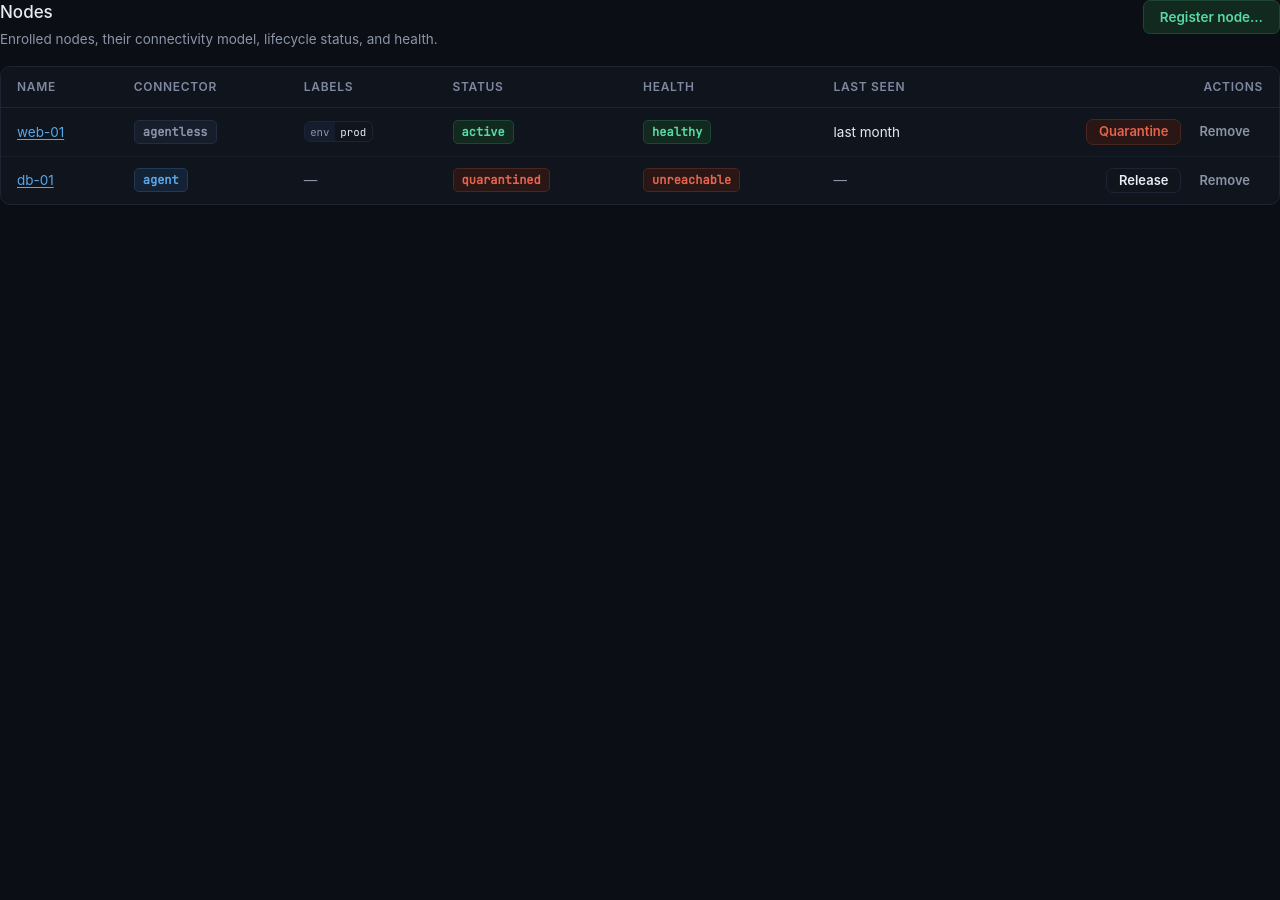
Test: NodeList › registers an agentless node and requires a host-identity anchor
Check: the button "web-01" is shown, box [17, 122, 64, 142]
Click the button "Register node…".
click(1211, 17)  # box [1143, 0, 1279, 34]
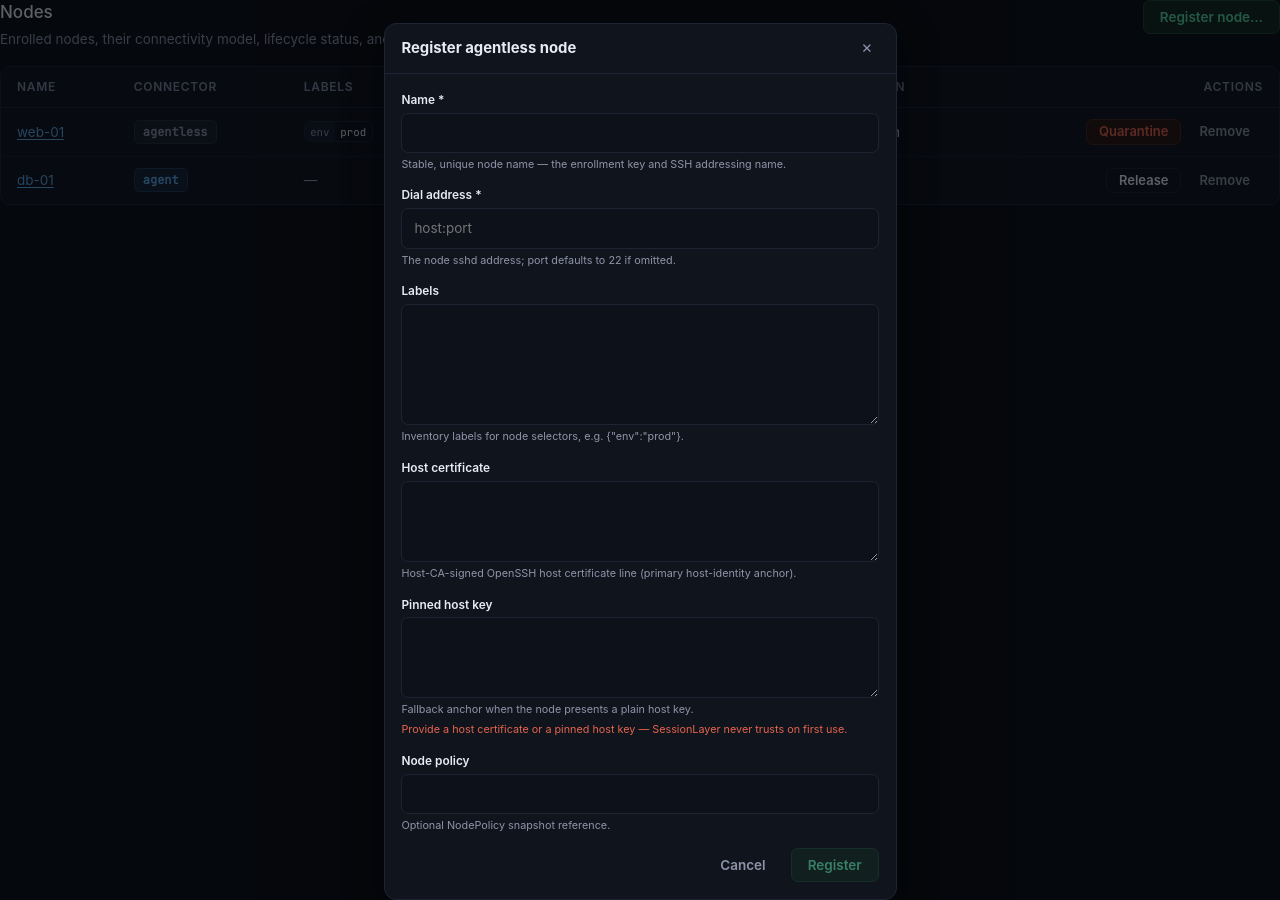
Check: the button "Register" is disabled, box [791, 848, 879, 882]
Type "app-01" into the field labelled "Name *".
click(640, 133); type("app-01")  # box [401, 112, 879, 153]
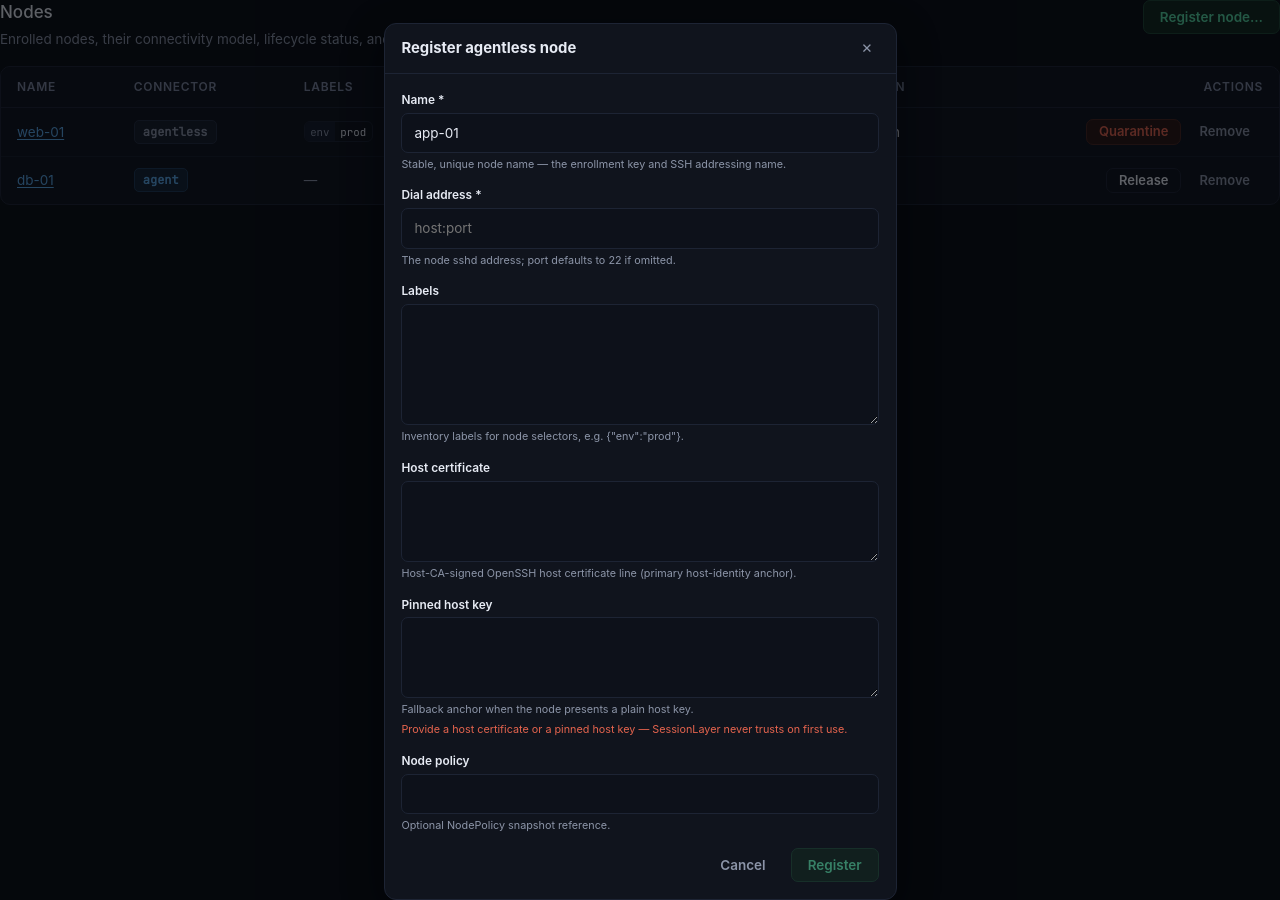
Type "10.0.3.4:22" into the field labelled "Dial address *".
click(640, 228); type("10.0.3.4:22")  # box [401, 208, 879, 249]
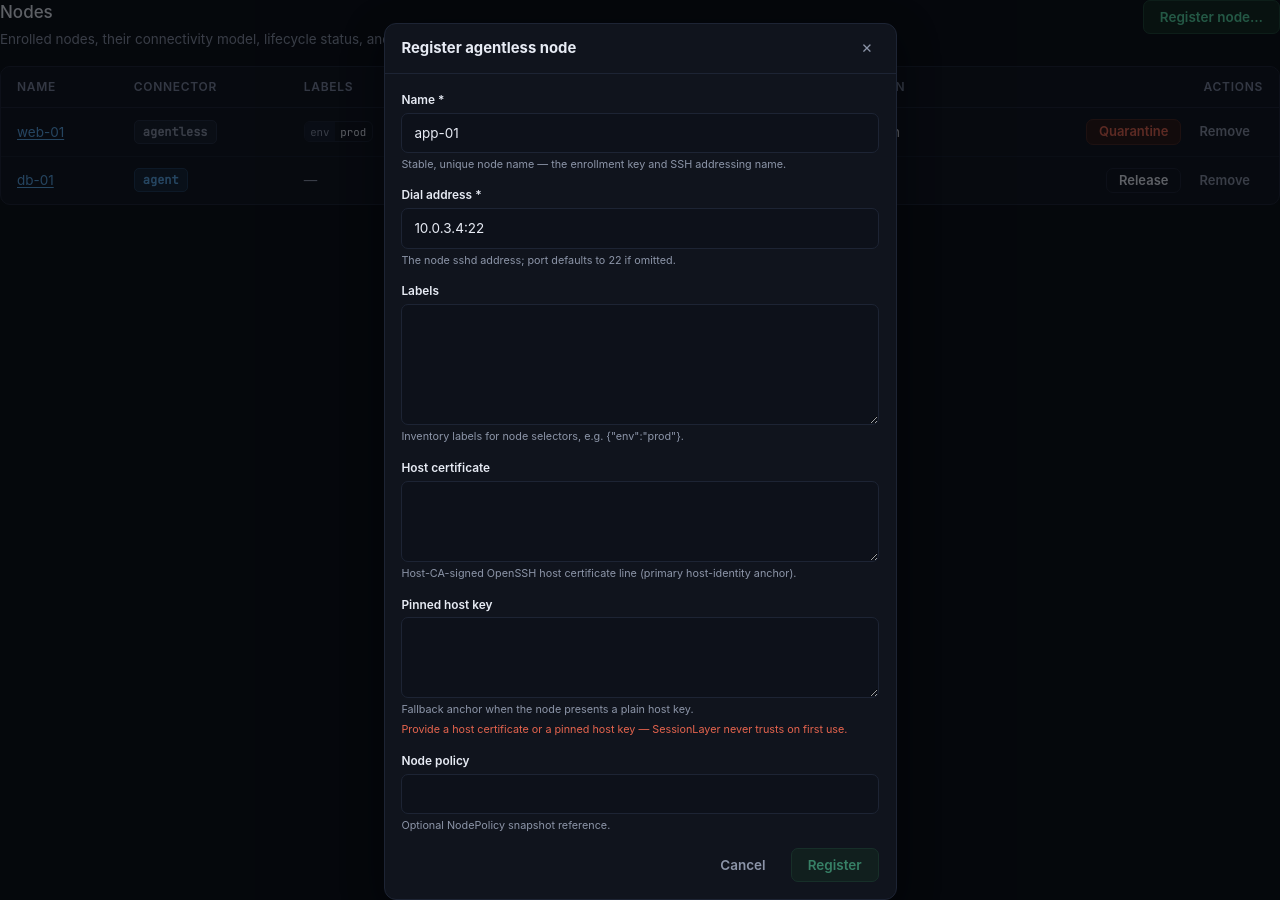
Type "ssh-ed25519-cert-v01@openssh.com AAAA..." into the text box labelled "Host certificate".
click(640, 521); type("ssh-ed25519-cert-v01@openssh.com AAAA...")  # box [401, 481, 879, 562]
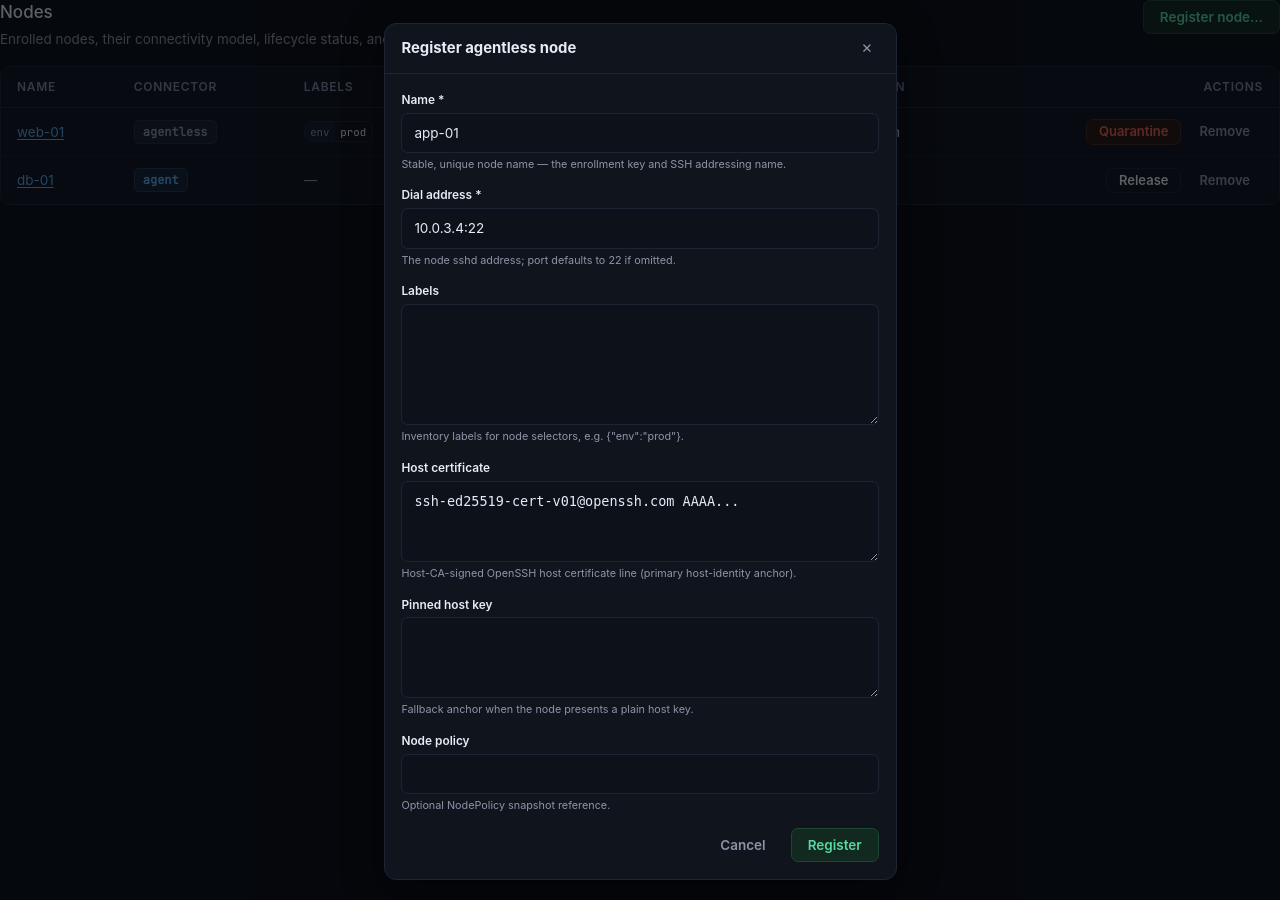
Click the button "Register".
click(835, 845)  # box [791, 828, 879, 862]
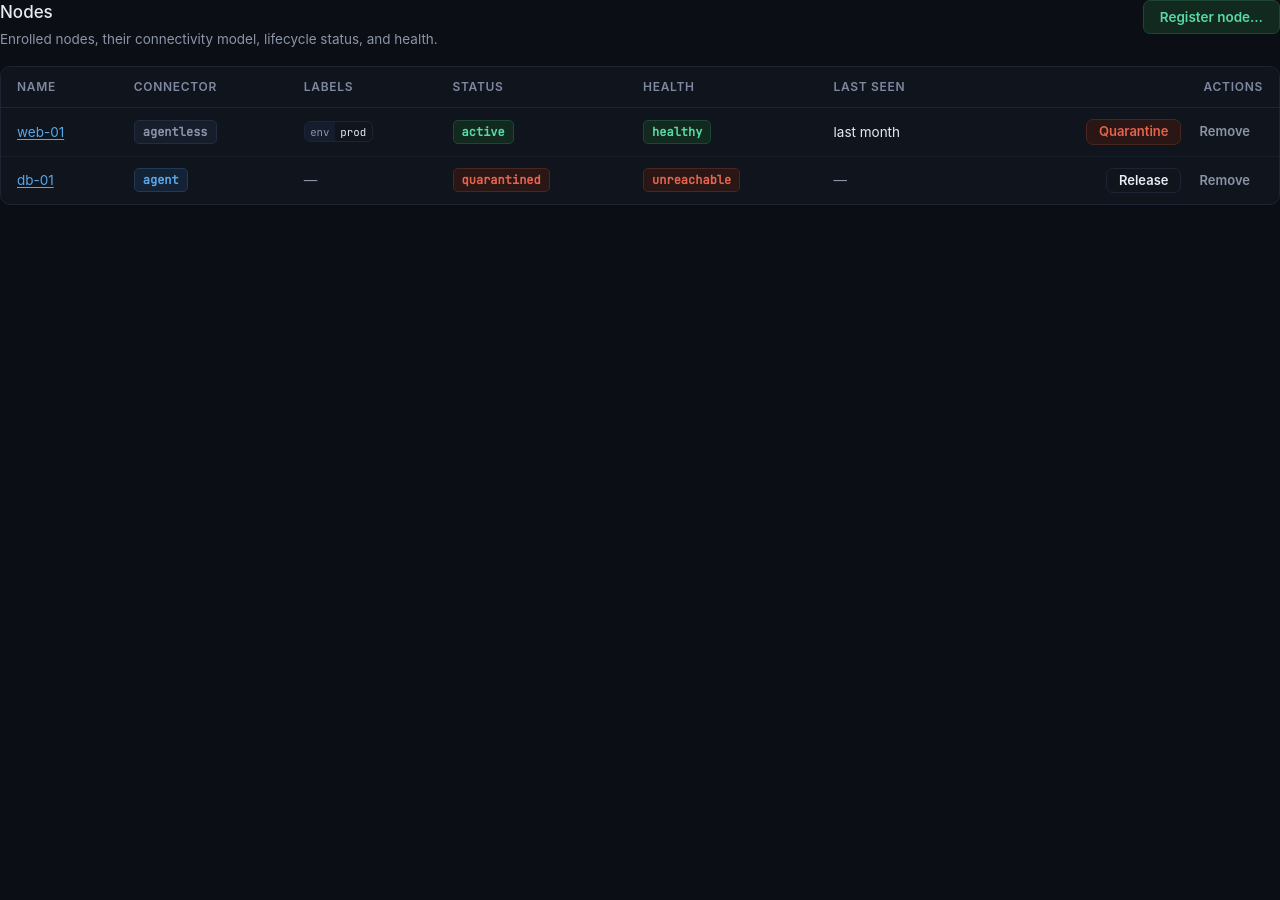
Check: the dialog is gone
